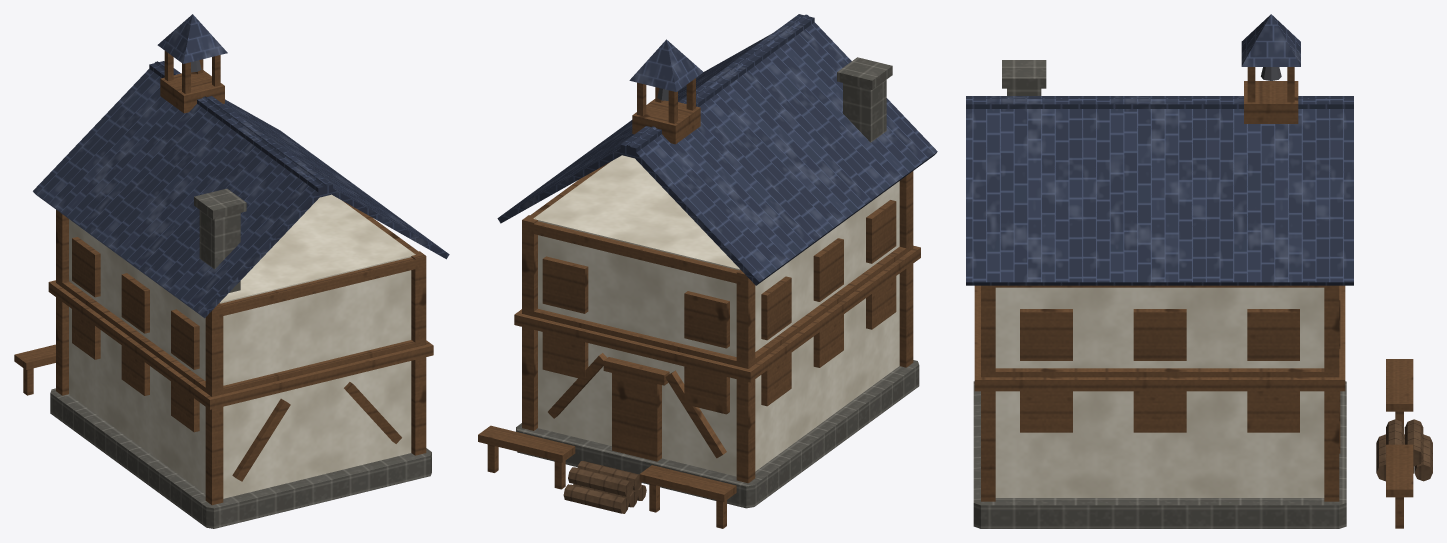
File: school.gltf
3 views of the same model, side by side, from view 1: azimuth 30°, elevation 25°; view 2: azimuth 150°, elevation 25°; view 3: azimuth 270°, elevation 25° (orthographic). The views are drawn at different scales.
Parts seen in each view (by area): view 1: School; view 2: School; view 3: School.
Boxes of the visible parts, x1=… form: School: x1=14, y1=14, x2=449, y2=528; School: x1=478, y1=14, x2=937, y2=528; School: x1=966, y1=14, x2=1432, y2=528.
Bounding box in the file's own units: 2.66 × 4.04 × 3.78.
Materials: 10 (8 with a texture image).
